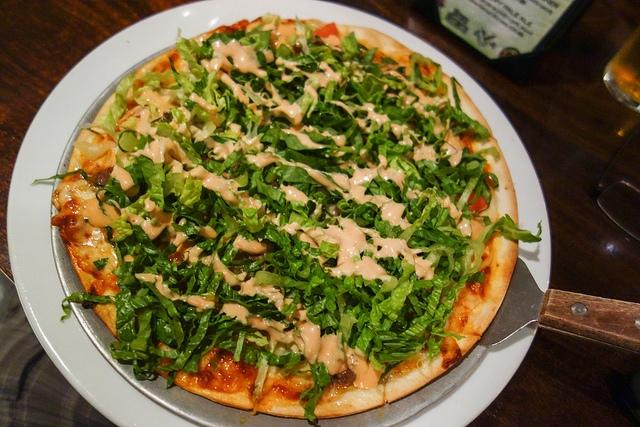lettuce: (167, 245, 237, 370), (200, 321, 262, 372), (254, 271, 325, 308), (376, 258, 414, 323), (294, 361, 331, 422), (398, 188, 438, 243), (455, 222, 495, 276), (277, 162, 326, 206), (301, 95, 354, 135), (176, 28, 212, 80), (456, 153, 488, 210), (482, 214, 542, 244), (60, 292, 116, 322), (370, 119, 410, 160), (424, 157, 464, 195), (162, 170, 202, 208), (281, 149, 340, 172), (414, 242, 455, 275), (334, 290, 358, 346), (350, 73, 390, 106), (383, 320, 427, 349), (438, 159, 482, 187), (30, 169, 97, 187), (282, 133, 338, 154), (238, 23, 276, 53), (451, 76, 470, 136), (150, 244, 178, 284), (116, 295, 160, 319), (180, 142, 214, 173), (306, 296, 337, 329), (374, 96, 414, 121), (274, 250, 306, 281), (332, 31, 363, 62), (104, 176, 133, 209), (420, 288, 454, 316), (255, 178, 286, 208), (252, 221, 284, 250), (125, 188, 152, 220), (132, 225, 159, 257), (178, 193, 216, 215), (152, 317, 178, 349), (366, 324, 384, 370), (156, 122, 192, 144), (216, 148, 244, 176), (198, 252, 214, 296), (244, 252, 278, 272), (242, 207, 268, 233), (351, 48, 384, 68), (272, 80, 296, 105), (179, 313, 196, 346), (301, 130, 336, 146), (260, 128, 286, 149), (366, 298, 382, 331), (108, 349, 150, 361), (116, 233, 136, 258), (172, 71, 195, 92), (374, 174, 394, 197), (338, 199, 358, 222), (233, 330, 247, 362), (173, 212, 205, 226), (206, 202, 222, 229), (132, 262, 162, 276), (374, 211, 388, 239), (309, 46, 332, 62), (178, 272, 194, 295), (328, 276, 346, 296), (274, 44, 296, 60), (350, 126, 363, 153), (421, 219, 444, 234), (208, 314, 234, 327), (408, 332, 427, 349), (381, 220, 398, 239), (266, 64, 282, 84), (402, 202, 416, 224), (232, 170, 248, 187), (284, 84, 302, 99), (437, 226, 463, 236), (148, 316, 156, 348), (274, 140, 286, 158), (227, 258, 253, 266), (453, 245, 466, 260), (208, 160, 222, 172), (222, 92, 230, 112), (381, 316, 392, 330), (448, 172, 459, 182), (352, 294, 361, 302)
